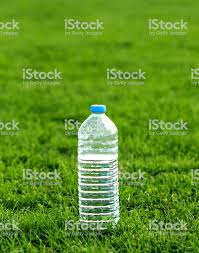plastic_bottle: (76, 103, 122, 228)
